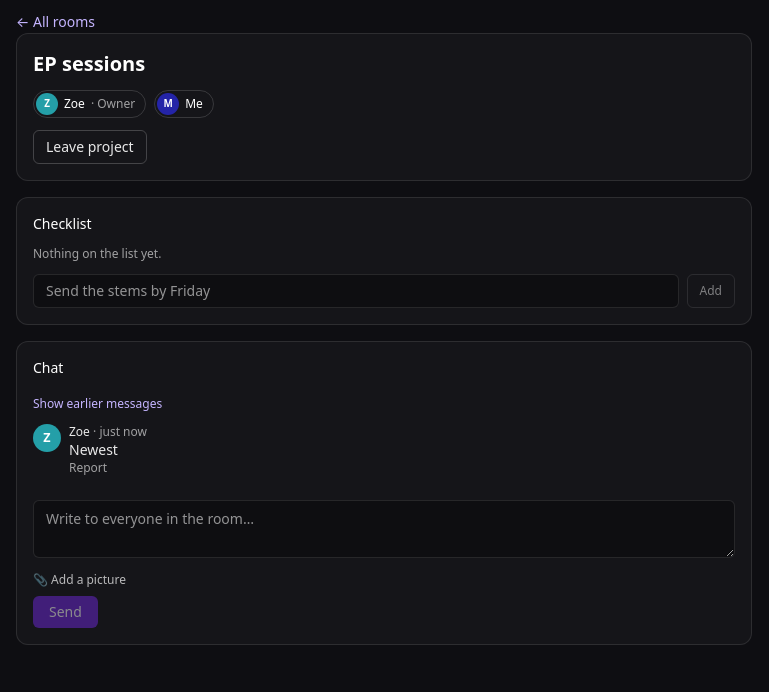
ProjectPage: a member › shows earlier messages on request
Step 1. Click the button "Show earlier messages" → (98, 404), box [33, 396, 162, 412]
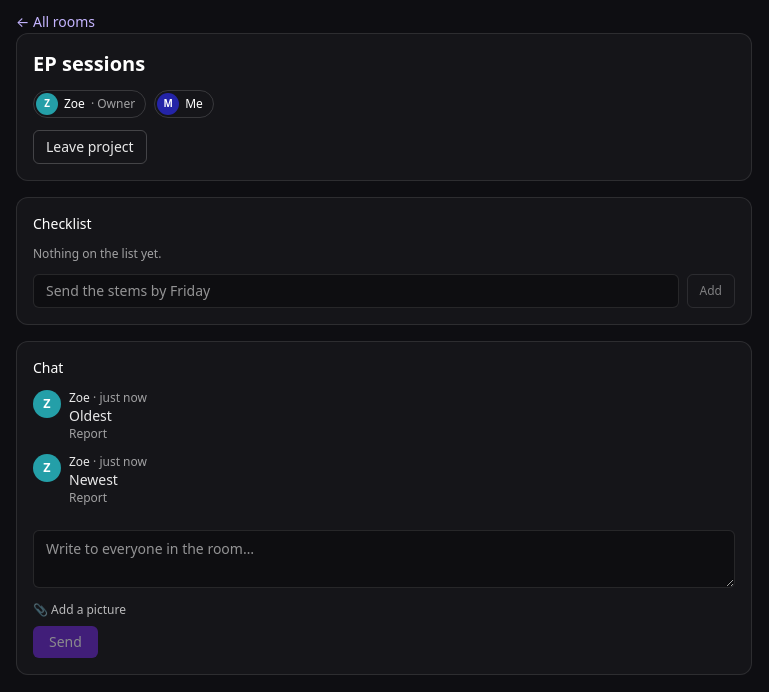
Result: the button "Show earlier messages" is gone
